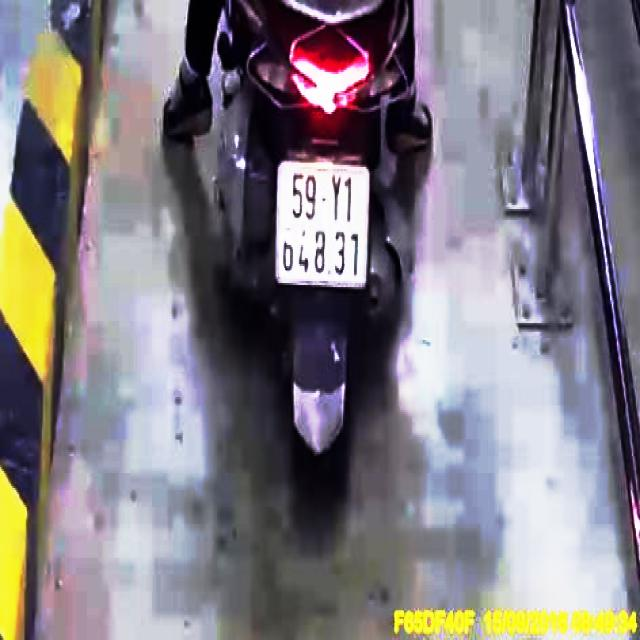license_plate: (280, 159, 370, 288)
